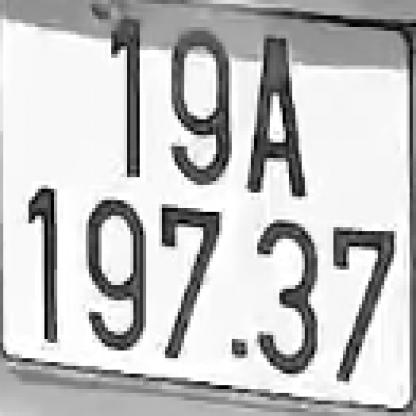1: (102, 23, 149, 185), (25, 185, 67, 347)
3: (257, 216, 318, 374)
7: (330, 228, 394, 378), (165, 208, 219, 354)
9: (168, 27, 235, 189), (86, 204, 149, 347)
A: (242, 31, 312, 200)
